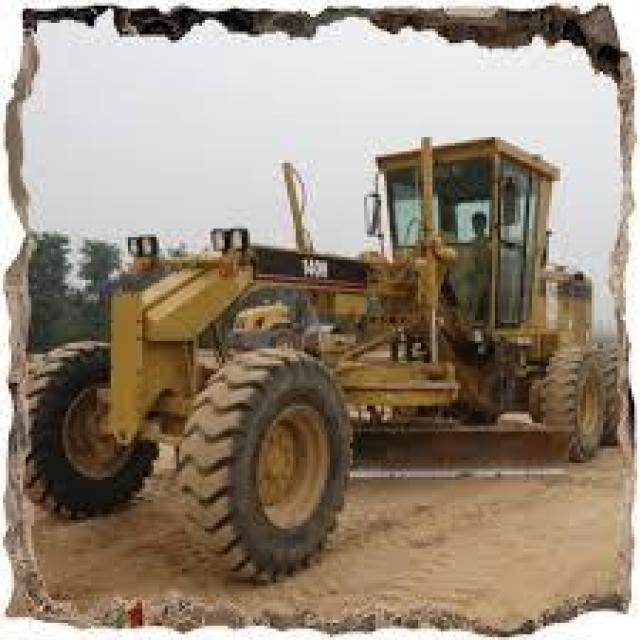buldozerpayloadergrader: (37, 134, 637, 569)
